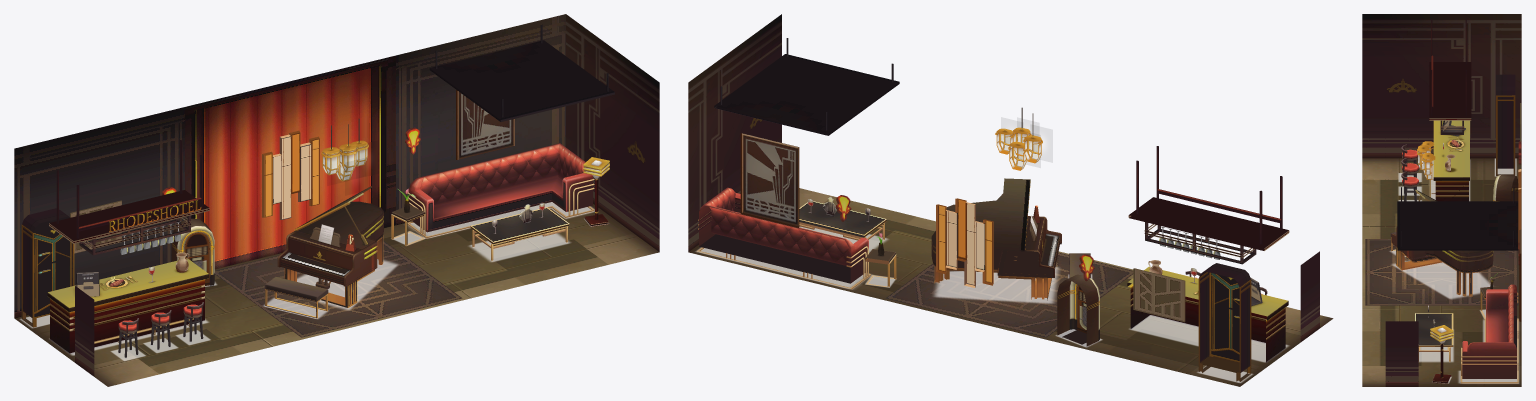
Rendered from artdeco.glb.
3 renders of one model, left to right at view 1: azimuth 30°, elevation 25°; view 2: azimuth 150°, elevation 25°; view 3: azimuth 270°, elevation 25°, orthographic. The views are drawn at different scales.
Visible parts, largest first — view 1: ROOM_room, ROOM_floor, furni_artdeco_sofa_01, furni_artdeco_carpet_01, furni_artdeco_pianoKit_01, furni_artdeco_ceiling_01, furni_artdeco_bar_01, furni_artdeco_barCeiling_01, furni_artdeco_refrigerator_01, furni_artdeco_abstractArt_01, furni_artdeco_framedArt2_01, furni_artdeco_coffeeTable_01 (+15 smaller); view 2: ROOM_floor, ROOM_room, furni_artdeco_sofa_01, furni_artdeco_ceiling_01, furni_artdeco_carpet_01, furni_artdeco_pianoKit_01, furni_artdeco_barCeiling_01, furni_artdeco_refrigerator_01, furni_artdeco_framedArt2_01, furni_artdeco_abstractArt_01, furni_artdeco_bar_01, furni_artdeco_JukeBox_01 (+8 smaller); view 3: ROOM_room, ROOM_floor, furni_artdeco_carpet_01, furni_artdeco_ceiling_01, furni_artdeco_sofa_01, furni_artdeco_bar_01, furni_artdeco_barCeiling_01, furni_artdeco_pianoKit_01, ROOM_RDoor, ROOM_LDoor, furni_artdeco_refrigerator_01, shadow02 (+13 smaller).
Boxes of the visible parts, x1,y1,x2,y2 form: ROOM_room: (14, 14, 659, 318); ROOM_floor: (14, 202, 659, 386); furni_artdeco_sofa_01: (391, 143, 594, 246); furni_artdeco_carpet_01: (214, 240, 462, 337); furni_artdeco_pianoKit_01: (264, 186, 383, 318); furni_artdeco_ceiling_01: (429, 24, 614, 121); furni_artdeco_bar_01: (47, 252, 208, 353); furni_artdeco_barCeiling_01: (49, 140, 209, 255); furni_artdeco_refrigerator_01: (21, 208, 74, 327); furni_artdeco_abstractArt_01: (262, 130, 319, 219); furni_artdeco_framedArt2_01: (456, 90, 514, 159); furni_artdeco_coffeeTable_01: (470, 207, 569, 261); ROOM_floor: (688, 188, 1333, 386); ROOM_room: (688, 14, 781, 251); furni_artdeco_sofa_01: (696, 187, 896, 289); furni_artdeco_ceiling_01: (714, 38, 899, 135); furni_artdeco_carpet_01: (885, 252, 1133, 337); furni_artdeco_pianoKit_01: (931, 178, 1090, 300); furni_artdeco_barCeiling_01: (1128, 146, 1289, 264); furni_artdeco_refrigerator_01: (1198, 263, 1251, 382); furni_artdeco_framedArt2_01: (740, 133, 799, 227); furni_artdeco_abstractArt_01: (936, 198, 993, 287); furni_artdeco_bar_01: (1127, 260, 1288, 362); furni_artdeco_JukeBox_01: (1057, 274, 1099, 347); ROOM_room: (1362, 14, 1521, 158); ROOM_floor: (1362, 158, 1521, 386); furni_artdeco_carpet_01: (1365, 239, 1518, 305); furni_artdeco_ceiling_01: (1397, 187, 1518, 250); furni_artdeco_sofa_01: (1460, 273, 1518, 383); furni_artdeco_bar_01: (1429, 120, 1469, 201); furni_artdeco_barCeiling_01: (1429, 18, 1471, 134); furni_artdeco_pianoKit_01: (1390, 190, 1493, 296); ROOM_RDoor: (1385, 321, 1418, 386); ROOM_LDoor: (1385, 92, 1418, 158); furni_artdeco_refrigerator_01: (1496, 74, 1515, 176); shadow02: (1391, 260, 1490, 299).
Size of the model in its own units: 7.48 by 2.2 by 2.2.
Materials: 6 (6 with a texture image).
